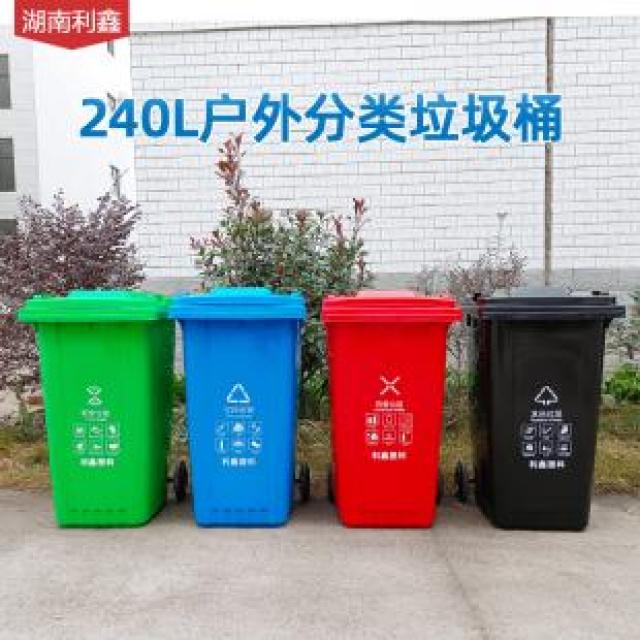garbage_bin: (461, 291, 624, 529), (15, 289, 174, 526), (165, 285, 306, 524), (320, 287, 460, 526)
